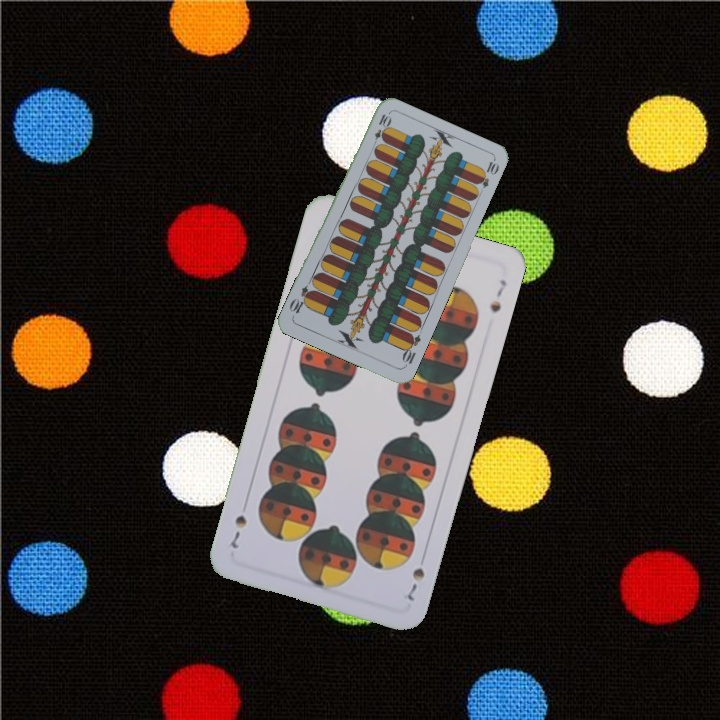E10: (398, 329, 423, 370), (369, 110, 392, 150)
S7: (403, 563, 428, 604)
